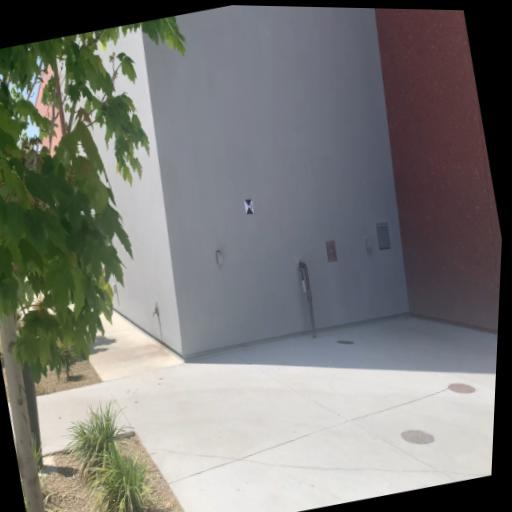target5: (244, 198, 254, 215)
